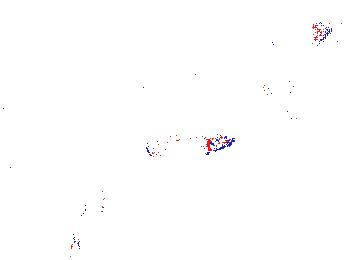X-ray fish: (85, 57, 160, 97)
glassfish: (71, 165, 123, 256), (145, 130, 236, 162)
red belly glassfish: (257, 106, 299, 125), (263, 79, 289, 100)
redtail glassfish: (316, 22, 346, 42)
